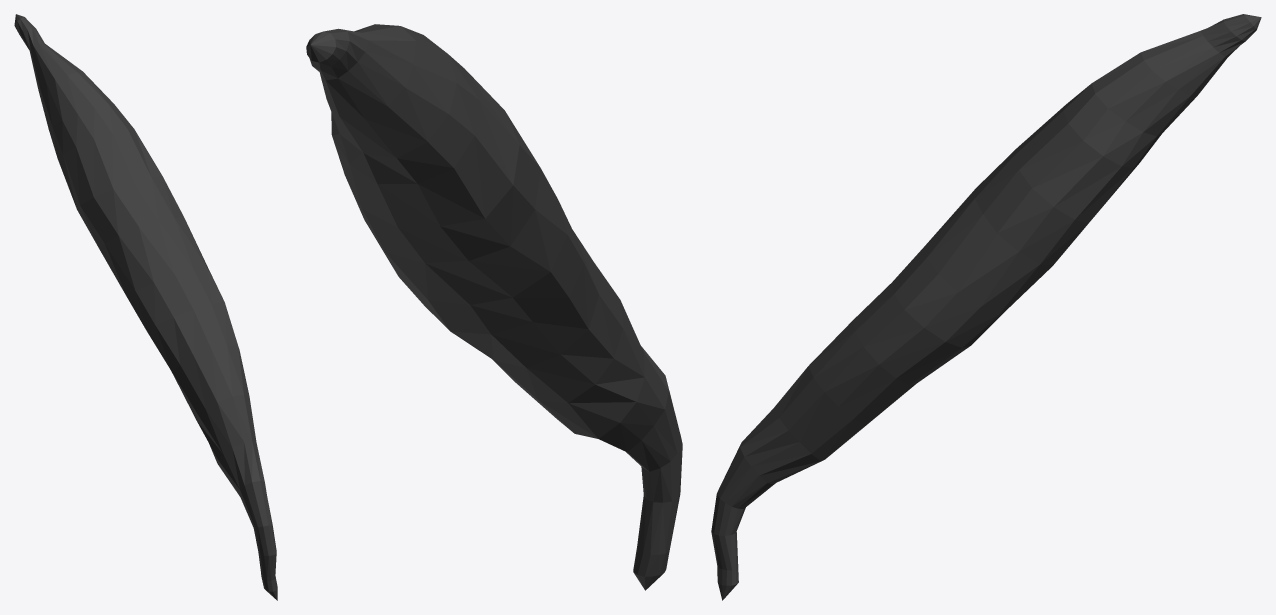
Rendered from VastusIntermedius.glb.
The picture shows the model from 3 angles, left to right: view 1: azimuth 30°, elevation 25°; view 2: azimuth 150°, elevation 25°; view 3: azimuth 270°, elevation 25°; orthographic projection. The views are drawn at different scales.
Visible parts, largest first — view 1: VastusIntermedius; view 2: VastusIntermedius; view 3: VastusIntermedius.
Boxes of the visible parts, box(x1,y1,x2,y2) form: VastusIntermedius: box(14, 14, 277, 600); VastusIntermedius: box(306, 24, 682, 590); VastusIntermedius: box(711, 14, 1261, 600).
Size of the model in its own units: 1.08 by 4.91 by 4.4.
1 material, 1 textured.
